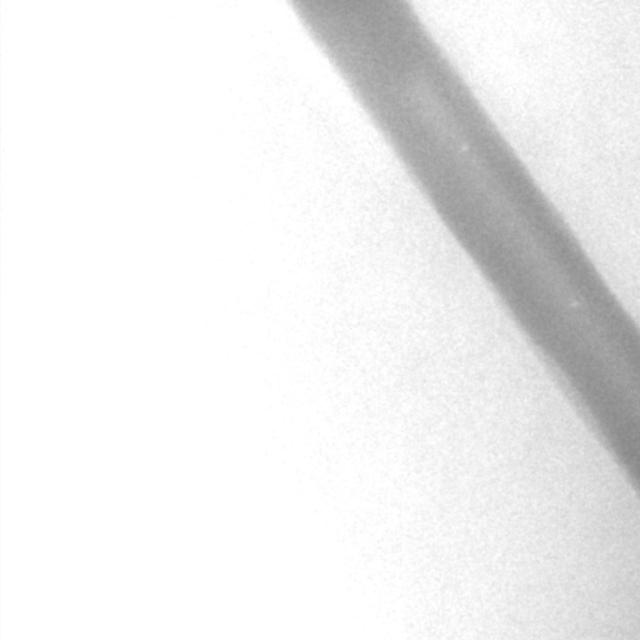air-hole: (571, 297, 578, 311), (460, 142, 468, 154)
